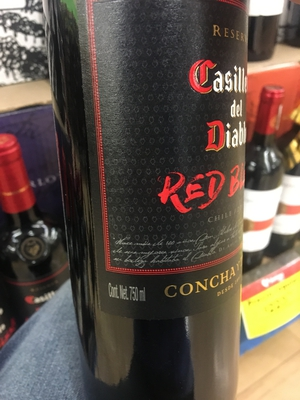casillero del diablo red blend: (45, 3, 250, 400)
